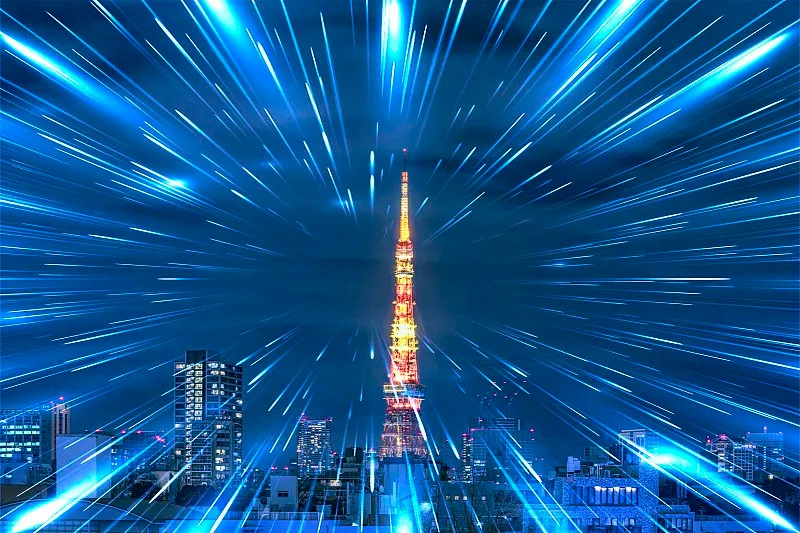Tokyo: (379, 145, 430, 460)
